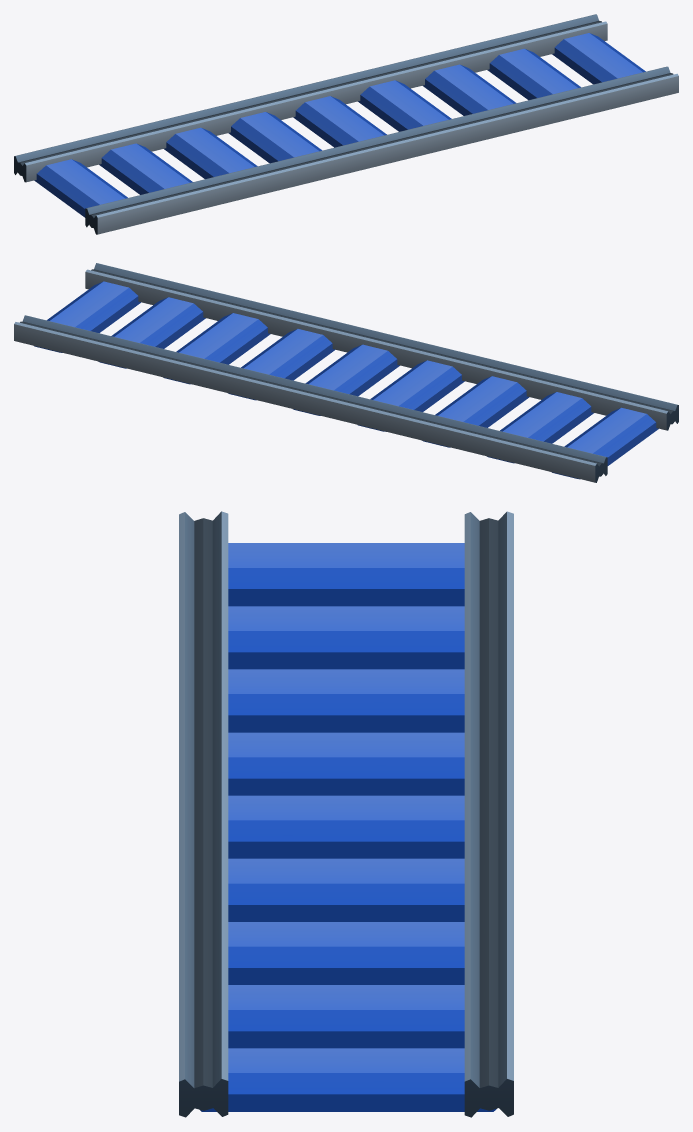
The model's file is 3Br-DuzRay.fbx.
3 views of the same model, one above another, from view 1: azimuth 30°, elevation 25°; view 2: azimuth 150°, elevation 25°; view 3: azimuth 270°, elevation 25° (orthographic). The views are drawn at different scales.
Parts seen in each view (by area): view 1: civisiz.011; view 2: civisiz.011; view 3: civisiz.011.
Boxes of the visible parts, box(x1,y1,x2,y2) form: civisiz.011: box(14, 14, 678, 234); civisiz.011: box(14, 263, 678, 482); civisiz.011: box(179, 511, 513, 1117).
Size of the model in its own units: 600 by 20.7 by 150.
